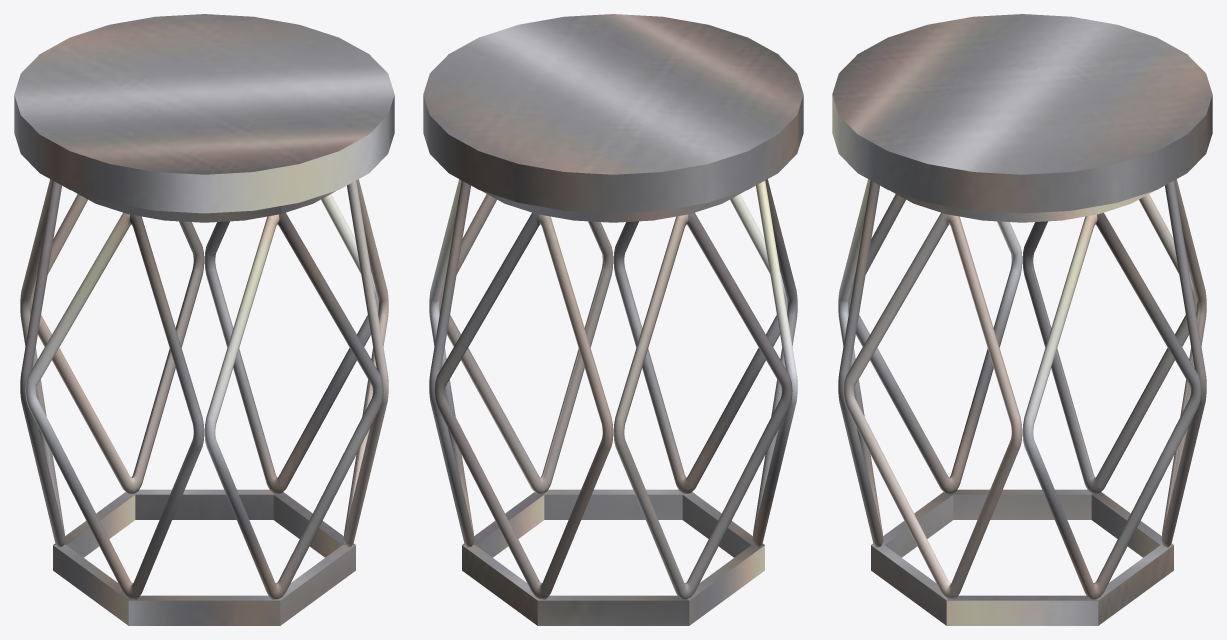
File: standard_table.glb
3 views of the same model, side by side, from view 1: azimuth 30°, elevation 25°; view 2: azimuth 150°, elevation 25°; view 3: azimuth 270°, elevation 25° (orthographic).
Visible parts, largest first — view 1: coffee_table_02; view 2: coffee_table_02; view 3: coffee_table_02.
Boxes of the visible parts, x1,y1,x2,y2 form: coffee_table_02: (14, 14, 394, 625); coffee_table_02: (423, 14, 803, 625); coffee_table_02: (832, 14, 1212, 625).
Size of the model in its own units: 2.34 by 2.94 by 2.13.
1 material, 1 textured.
